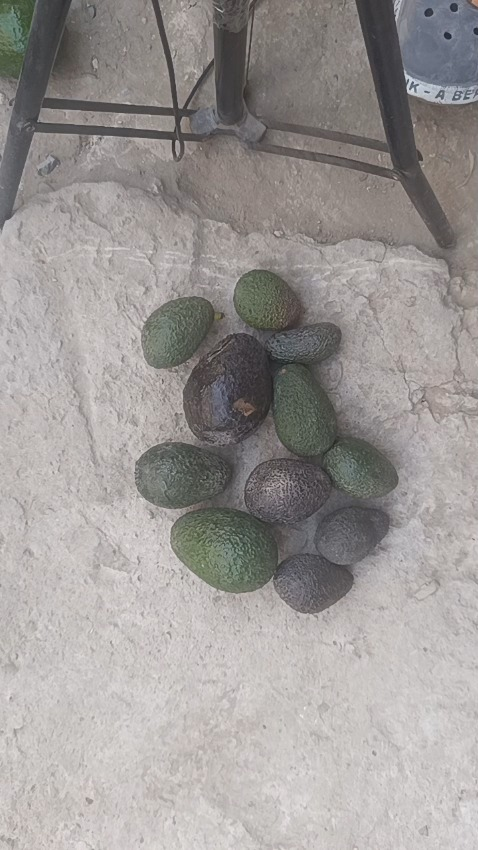Primera: (185, 333, 274, 446), (171, 509, 278, 594), (0, 0, 36, 80)
Segunda: (135, 443, 233, 508), (272, 367, 339, 460), (244, 459, 334, 527)
Tercera: (143, 296, 216, 369), (274, 553, 355, 614), (322, 440, 399, 500), (315, 507, 391, 566), (233, 270, 303, 332), (264, 322, 343, 364)
